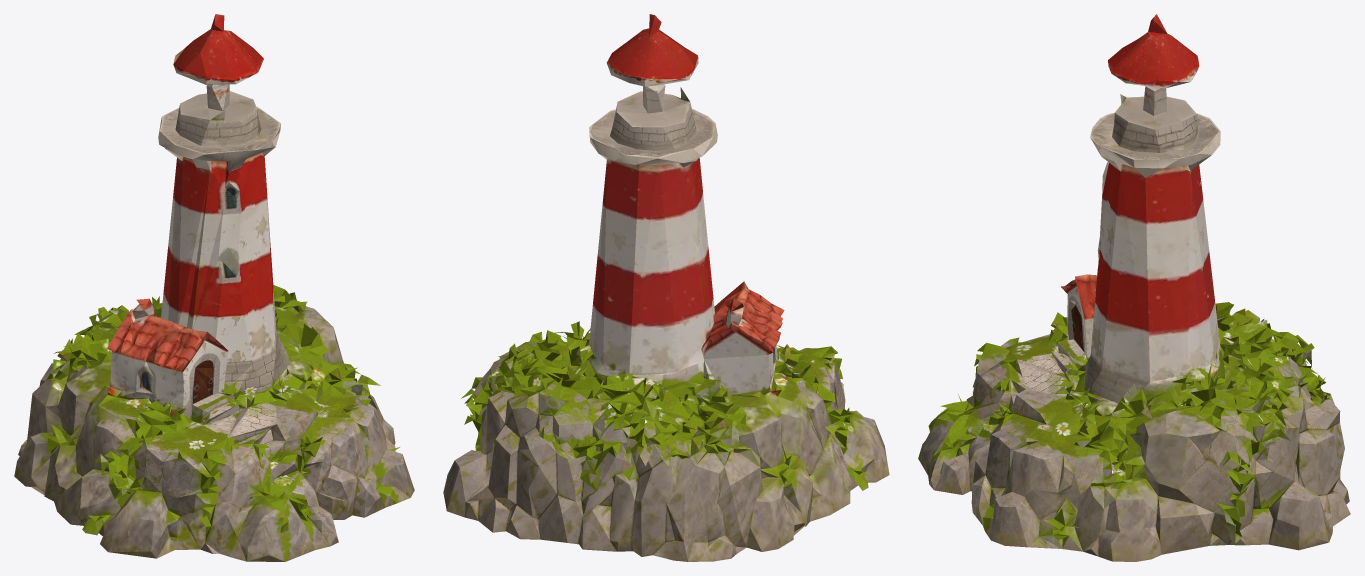
The model's file is lighthouse.glb.
3 views of the same model, side by side, from view 1: azimuth 30°, elevation 25°; view 2: azimuth 150°, elevation 25°; view 3: azimuth 270°, elevation 25° (orthographic). The views are drawn at different scales.
Bounding box in the file's own units: 1.44 × 1.9 × 1.59.
Materials: 1 (1 with a texture image).
